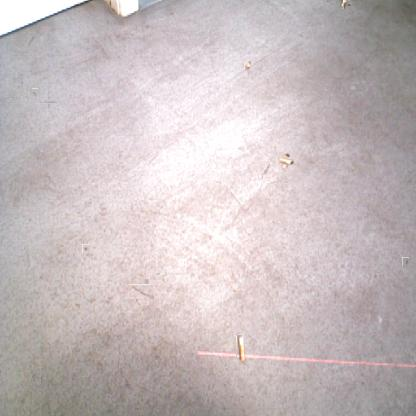dirty: (236, 334, 244, 361), (280, 155, 292, 168), (341, 0, 350, 7), (244, 61, 251, 69)
mark: (131, 282, 152, 302), (258, 160, 270, 180), (42, 94, 56, 108), (27, 33, 37, 47), (32, 88, 38, 99), (402, 257, 409, 266), (82, 244, 89, 253)
